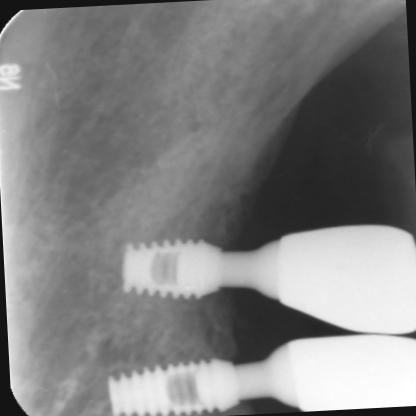Bicon: (98, 355, 248, 415), (110, 230, 228, 306)
